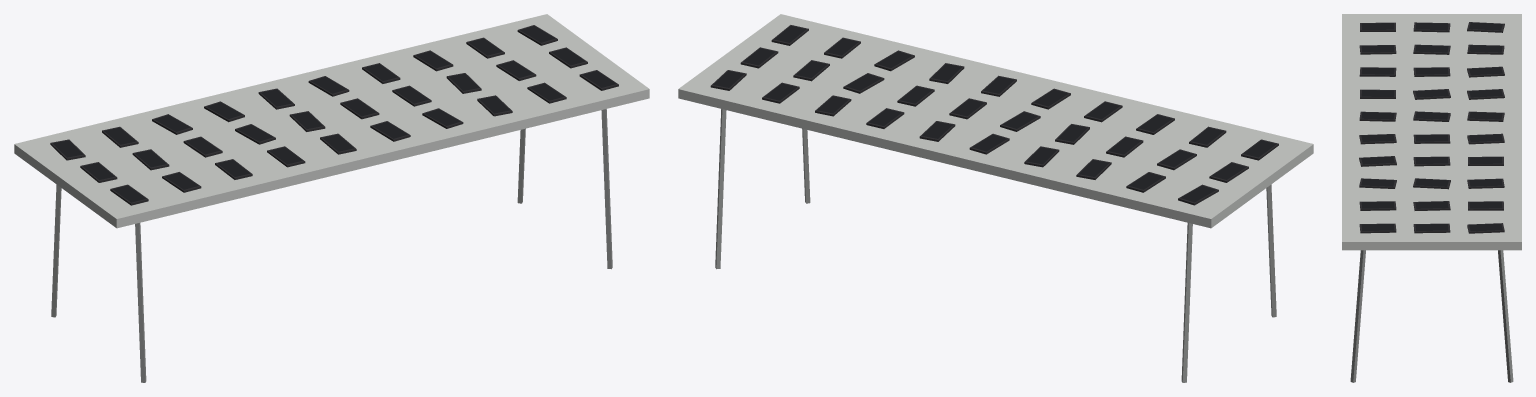
File: town_table_phones 2.gltf
3 renders of one model, left to right at view 1: azimuth 30°, elevation 25°; view 2: azimuth 150°, elevation 25°; view 3: azimuth 270°, elevation 25°, orthographic. The views are drawn at different scales.
Visible parts, largest first — view 1: TownTablePhones_Top, TownTablePhones_Screens, TownTablePhones_Phones, TownTablePhones_Legs; view 2: TownTablePhones_Top, TownTablePhones_Screens, TownTablePhones_Phones, TownTablePhones_Legs; view 3: TownTablePhones_Top, TownTablePhones_Screens, TownTablePhones_Phones, TownTablePhones_Legs.
Part boxes in pixels (x1=…): TownTablePhones_Top: x1=14, y1=14, x2=649, y2=228; TownTablePhones_Screens: x1=53, y1=26, x2=616, y2=202; TownTablePhones_Phones: x1=50, y1=25, x2=618, y2=205; TownTablePhones_Legs: x1=51, y1=109, x2=612, y2=382; TownTablePhones_Top: x1=678, y1=14, x2=1313, y2=228; TownTablePhones_Screens: x1=713, y1=25, x2=1276, y2=202; TownTablePhones_Phones: x1=710, y1=25, x2=1278, y2=205; TownTablePhones_Legs: x1=715, y1=109, x2=1276, y2=382; TownTablePhones_Top: x1=1342, y1=14, x2=1521, y2=250; TownTablePhones_Screens: x1=1361, y1=22, x2=1502, y2=231; TownTablePhones_Phones: x1=1359, y1=22, x2=1504, y2=233; TownTablePhones_Legs: x1=1350, y1=250, x2=1513, y2=382.
Size of what is drawn, in the model's own units: 2.4 by 0.7653 by 0.8.
1 material, 1 textured.
